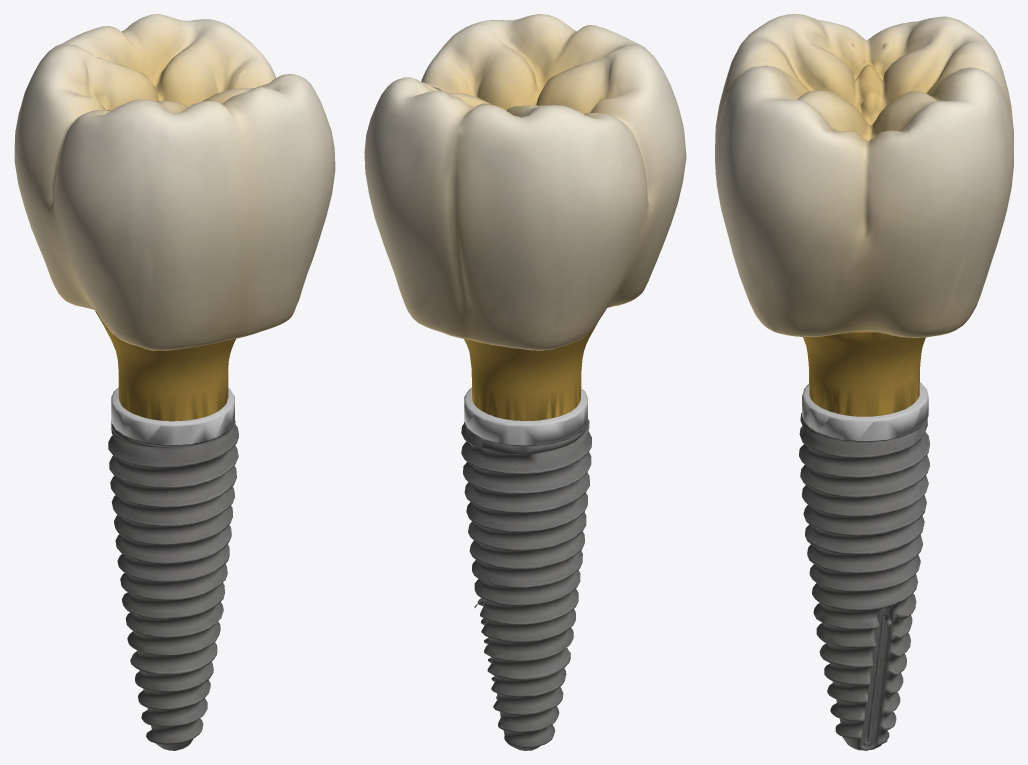
Rendered from implant-anatomy-assembled-v3.glb.
3 renders of one model, left to right at view 1: azimuth 30°, elevation 25°; view 2: azimuth 150°, elevation 25°; view 3: azimuth 270°, elevation 25°, orthographic.
Parts seen in each view (by area): view 1: dental-crown, implant-screw, implant-abutment; view 2: dental-crown, implant-screw, implant-abutment; view 3: dental-crown, implant-screw, implant-abutment.
Part boxes in pixels (bbox=[...]): dental-crown: bbox=[14, 14, 335, 350]; implant-screw: bbox=[108, 387, 238, 750]; implant-abutment: bbox=[95, 311, 236, 421]; dental-crown: bbox=[364, 14, 686, 350]; implant-screw: bbox=[461, 387, 591, 750]; implant-abutment: bbox=[464, 321, 598, 420]; dental-crown: bbox=[715, 14, 1013, 337]; implant-screw: bbox=[799, 382, 929, 750]; implant-abutment: bbox=[803, 331, 925, 416].
Size of the model in its own units: 0.7573 by 1.96 by 0.7603.
Materials: 3 (3 with a texture image).
